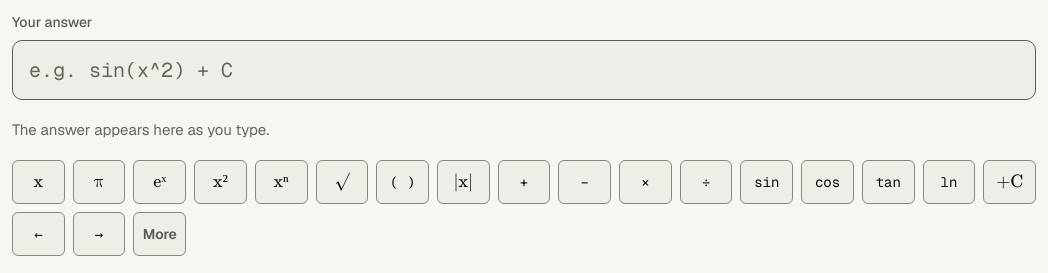
Scenario: AnswerInput assist › shows more functions on request
The image size is (1048, 273).
Step 1. Click the button "More" → x=160, y=234, box [133, 212, 186, 256]
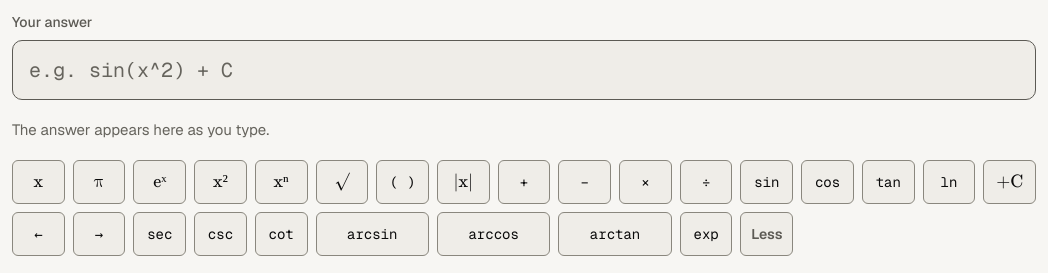
Step 2. Click the button "arctan" → x=615, y=234, box [558, 212, 672, 256]
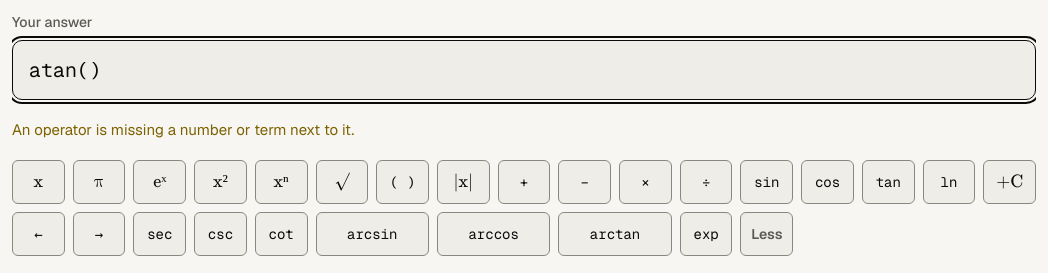
Expected: the field labelled "Your answer" holds "atan()", [12, 40, 1036, 100]
